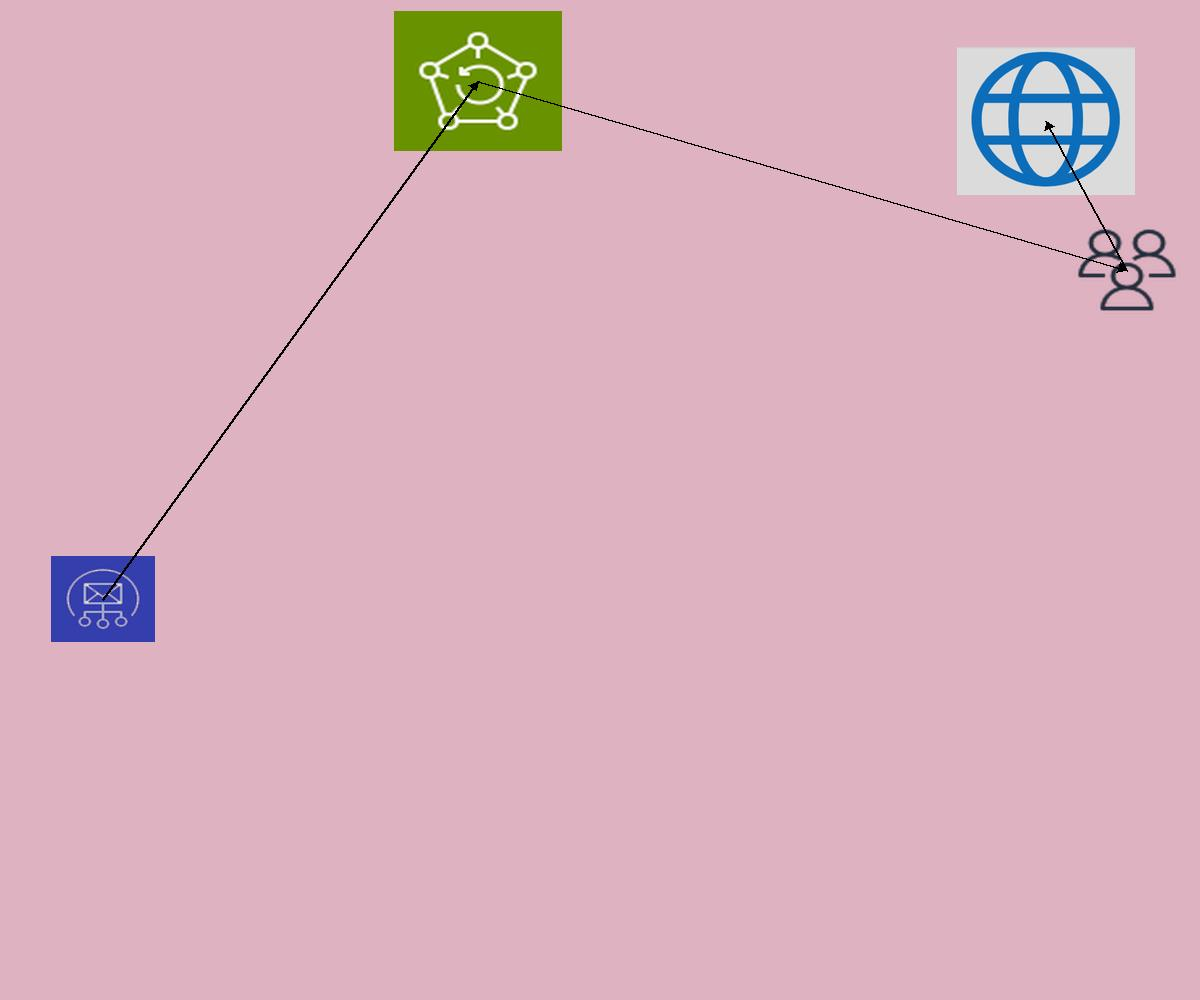AWS-Backup: (394, 11, 562, 151)
AWS-Res_Users: (1074, 226, 1180, 314)
AWS-Simple-Email-Service: (51, 556, 155, 642)
Azure_http: (957, 47, 1135, 195)
